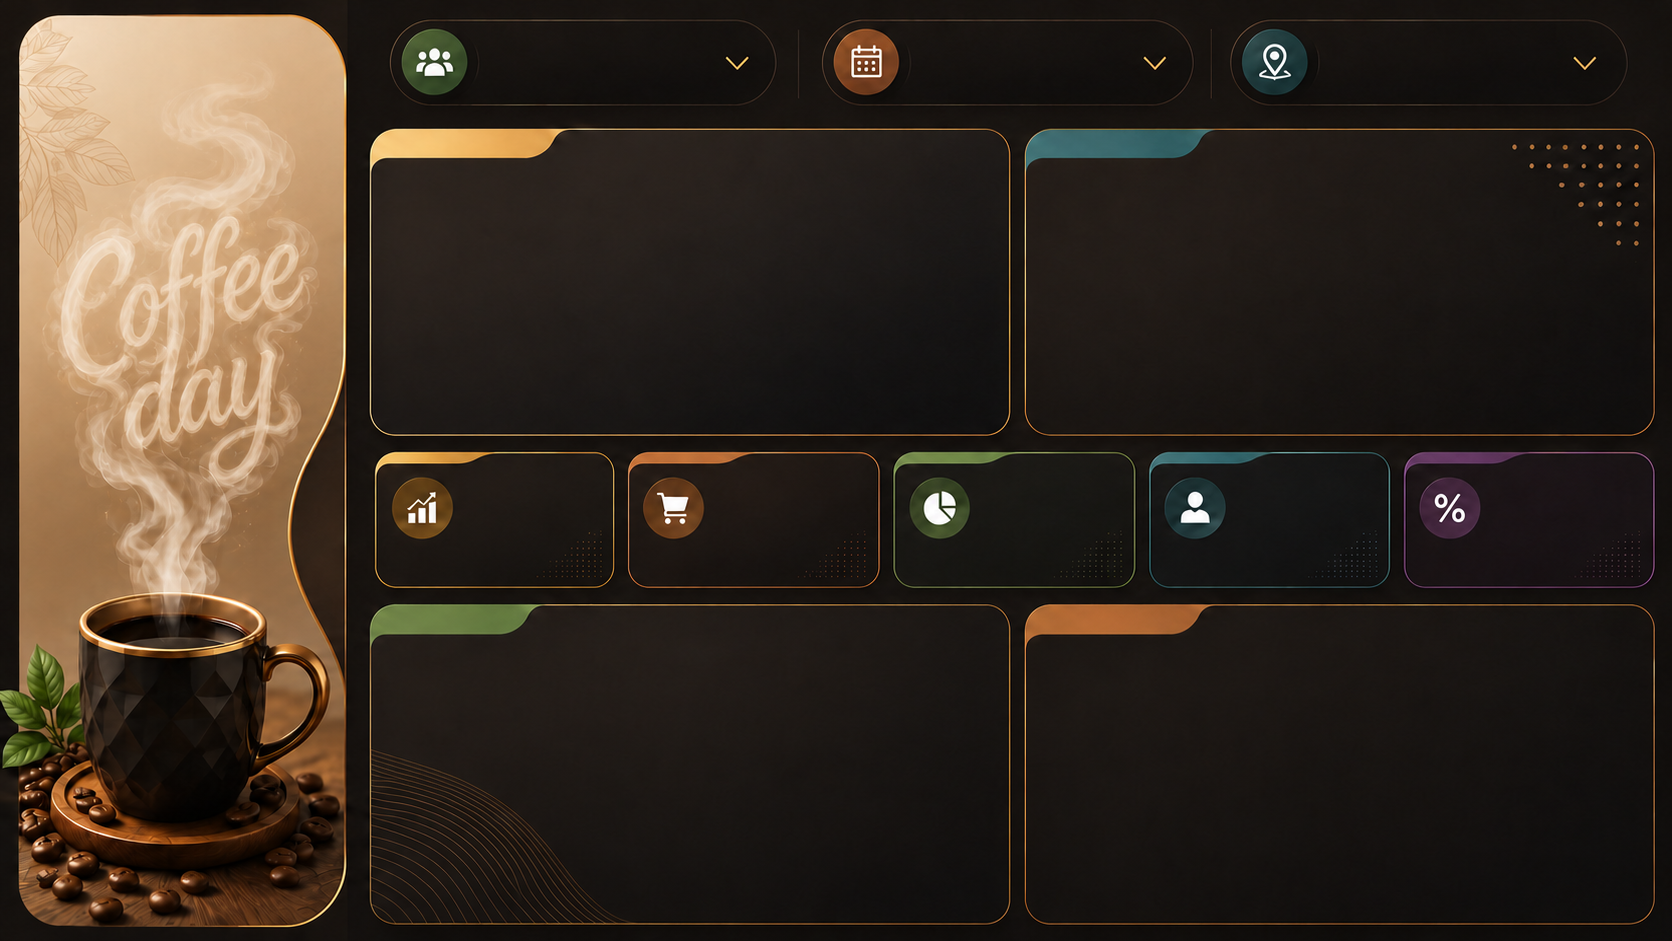

The dashboard page shown, as its layout file describes it:
{"tool":"powerbi","page":{"name":"Page 1","canvas":[1920,1080],"ordinal":0},"visuals":[{"type":"cardVisual","fields":{"Data":["Table DAX.Total Transcation"]},"box":[1082.1,498.5,238.6,151.2],"z":0},{"type":"cardVisual","fields":{"Data":["Table DAX.Total Revenue"]},"box":[759.3,517.7,299.8,114.3],"z":1000},{"type":"cardVisual","fields":{"Data":["Table DAX.Total Profit"]},"box":[485.4,502.6,265.3,142.4],"z":2000},{"type":"cardVisual","fields":{"Data":["Table DAX.Profit Margin %"]},"box":[1694,460.7,219.7,229.2],"z":3000},{"type":"cardVisual","fields":{"Data":["Table DAX.AVG oder value"]},"box":[1405.8,534,198.5,78],"z":4000},{"type":"card","fields":{"Values":["Table DAX.Revenue MoM %"]},"box":[862.9,599.7,187.7,99.2],"z":5000},{"type":"card","fields":{"Values":["Table DAX.Transcation MoM %"]},"box":[1160.6,599.7,187.7,99.2],"z":6000},{"type":"card","fields":{"Values":["Table DAX.Profit MoM %"]},"box":[580.3,612.6,151,71.2],"z":7000},{"type":"card","fields":{"Values":["Table DAX.AOV MoM %"]},"box":[1477.7,621.3,127.3,62.6],"z":8000},{"type":"lineChart","fields":{"Category":["Calendar.Month"],"Y":["Table DAX.Total Revenue","Table DAX.PM Revenue"]},"box":[418.5,170.4,742.1,271.8],"z":9000},{"type":"card","fields":{"Values":["Table DAX.Insight linechart"]},"box":[563,388.3,407.7,129.4],"z":10000},{"type":"clusteredBarChart","fields":{"Category":["DimStore.StoreName"],"Y":["Table DAX.Total Revenue","Table DAX.PM Revenue"]},"box":[1173.5,166.1,746.4,332.2],"z":11000},{"type":"clusteredColumnChart","fields":{"Category":["DimProduct.Category"],"Y":["Table DAX.Total Revenue","Table DAX.PM Revenue"]},"box":[1182.1,733.4,716.2,319.3],"z":12000},{"type":"donutChart","fields":{"Category":["DimStore.StoreType"],"Y":["Table DAX.Total Revenue"]},"box":[446.5,748.5,358.1,245.9],"z":13000},{"type":"donutChart","fields":{"Category":["DimStore.StoreType"],"Y":["Table DAX.Total Revenue"]},"box":[768,748.5,364.6,245.9],"z":14000},{"type":"card","fields":{"Values":["Table DAX.Total Revenue"]},"box":[555,845.3,129.4,49],"z":15000},{"type":"card","fields":{"Values":["Table DAX.Total Revenue"]},"box":[856.4,821.9,187.7,97.1],"z":16000},{"type":"card","fields":{"Values":["Table DAX.Store Type Insight"]},"box":[470.3,921.1,662.3,159.6],"z":17000},{"type":"slicer","fields":{"Values":["DimCustomer.Segment"]},"box":[545.8,28,330,84.1],"z":18000},{"type":"slicer","fields":{"Values":["Calendar.YEAR"]},"box":[1059.2,28,289.1,84.1],"z":19000},{"type":"slicer","fields":{"Values":["DimStore.Region"]},"box":[1516.8,28.4,319,82.7],"z":20000},{"type":"textbox","box":[82.7,822.2,189,229.2],"z":21000},{"type":"textbox","box":[655.8,148.8,526.3,45.3],"z":22000},{"type":"textbox","box":[1406.5,148.8,396.9,66.9],"z":22001},{"type":"textbox","box":[1406.5,690.3,429.3,75.5],"z":22002},{"type":"textbox","box":[619.1,690.3,541.4,58.2],"z":22003},{"type":"textbox","box":[485.4,733.4,304.2,56.1],"z":22004},{"type":"textbox","box":[862.9,733.4,220,56.1],"z":22005}]}

Visuals, with their boxes in screenshot pixels (x1, y1, x2, y2), scaled from the page's 1920x1080 canvas onto the 1672x941 screenshot:
cardVisual - Table DAX.Total Transcation: bbox(942, 434, 1150, 566)
cardVisual - Table DAX.Total Revenue: bbox(661, 451, 922, 551)
cardVisual - Table DAX.Total Profit: bbox(423, 438, 654, 562)
cardVisual - Table DAX.Profit Margin %: bbox(1475, 401, 1667, 601)
cardVisual - Table DAX.AVG oder value: bbox(1224, 465, 1397, 533)
card - Table DAX.Revenue MoM %: bbox(751, 523, 915, 609)
card - Table DAX.Transcation MoM %: bbox(1011, 523, 1174, 609)
card - Table DAX.Profit MoM %: bbox(505, 534, 637, 596)
card - Table DAX.AOV MoM %: bbox(1287, 541, 1398, 596)
lineChart - Calendar.Month x Table DAX.Total Revenue: bbox(364, 148, 1011, 385)
card - Table DAX.Insight linechart: bbox(490, 338, 845, 451)
clusteredBarChart - DimStore.StoreName x Table DAX.Total Revenue: bbox(1022, 145, 1671, 434)
clusteredColumnChart - DimProduct.Category x Table DAX.Total Revenue: bbox(1029, 639, 1653, 917)
donutChart - DimStore.StoreType x Table DAX.Total Revenue: bbox(389, 652, 701, 866)
donutChart - DimStore.StoreType x Table DAX.Total Revenue: bbox(669, 652, 986, 866)
card - Table DAX.Total Revenue: bbox(483, 737, 596, 779)
card - Table DAX.Total Revenue: bbox(746, 716, 909, 801)
card - Table DAX.Store Type Insight: bbox(410, 803, 986, 940)
slicer - DimCustomer.Segment: bbox(475, 24, 763, 98)
slicer - Calendar.YEAR: bbox(922, 24, 1174, 98)
slicer - DimStore.Region: bbox(1321, 25, 1599, 97)
textbox: bbox(72, 716, 237, 916)
textbox: bbox(571, 130, 1029, 169)
textbox: bbox(1225, 130, 1570, 188)
textbox: bbox(1225, 601, 1599, 667)
textbox: bbox(539, 601, 1011, 652)
textbox: bbox(423, 639, 688, 688)
textbox: bbox(751, 639, 943, 688)
